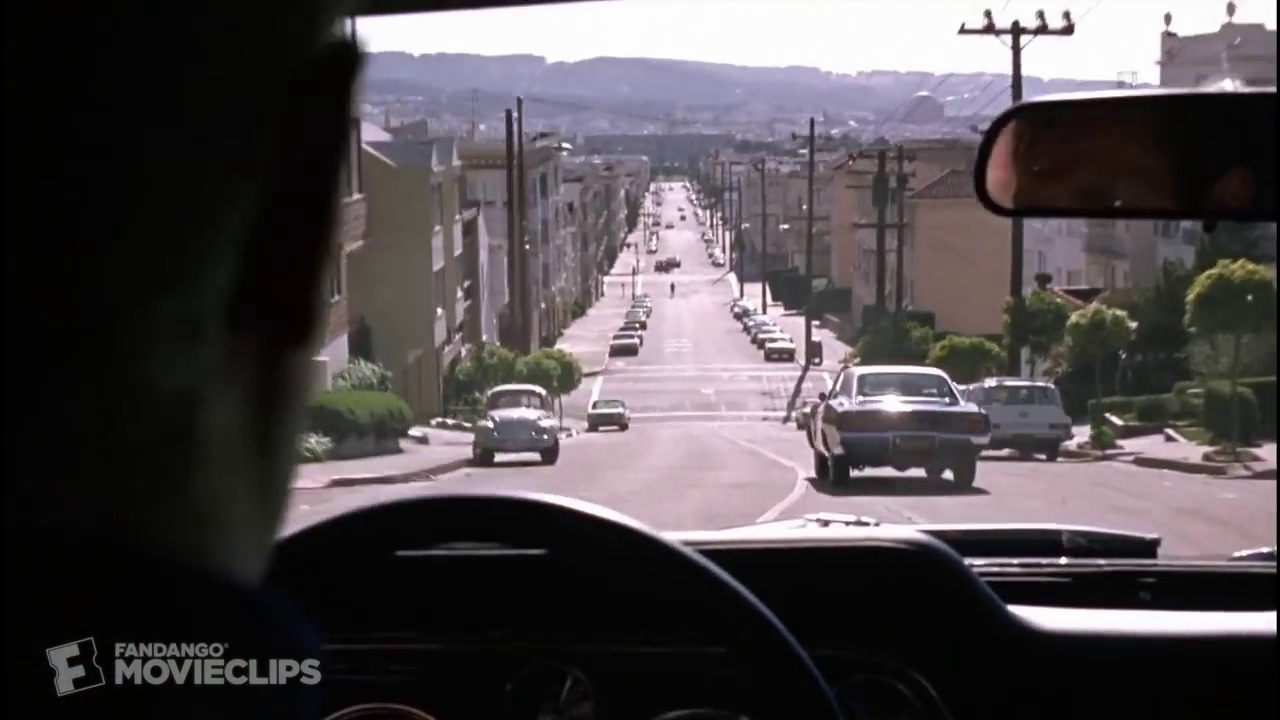car: (299, 482, 1280, 719), (800, 353, 994, 495), (950, 367, 1084, 476), (457, 377, 571, 474), (578, 394, 638, 435), (605, 329, 645, 361), (612, 321, 650, 351), (761, 333, 796, 364), (750, 322, 784, 351), (617, 306, 651, 332)
person: (1, 7, 397, 587), (666, 279, 678, 302)
